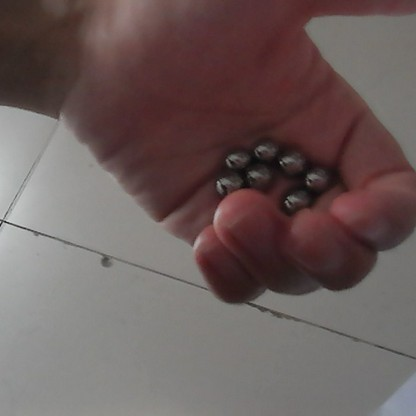ironball: (278, 180, 313, 215), (249, 132, 277, 163), (302, 162, 329, 194), (223, 144, 254, 171), (278, 148, 305, 178), (243, 163, 273, 190), (212, 173, 245, 196)
